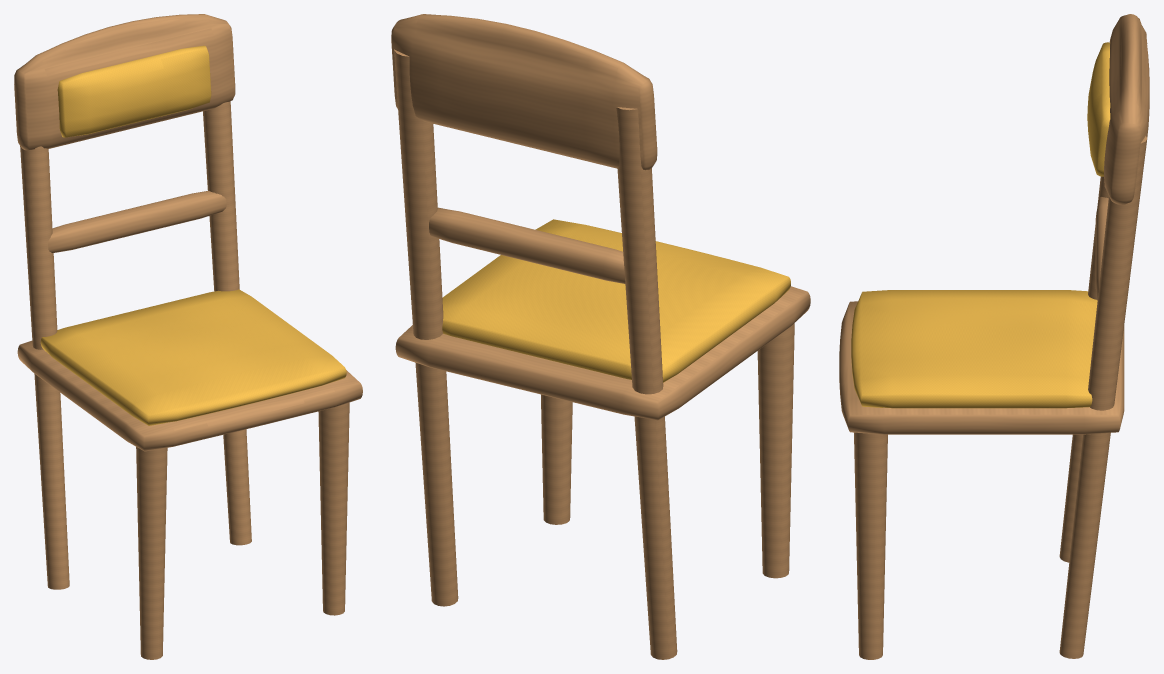
File: 卡通餐椅_芥末.glb
3 views of the same model, side by side, from view 1: azimuth 30°, elevation 25°; view 2: azimuth 150°, elevation 25°; view 3: azimuth 270°, elevation 25° (orthographic). The views are drawn at different scales.
Visible parts, largest first — view 1: DiningChair_芥末_Wood, DiningChair_芥末_Cushion; view 2: DiningChair_芥末_Wood, DiningChair_芥末_Cushion; view 3: DiningChair_芥末_Wood, DiningChair_芥末_Cushion.
Boxes of the visible parts, x1,y1,x2,y2 form: DiningChair_芥末_Wood: (14, 14, 362, 659); DiningChair_芥末_Cushion: (40, 45, 346, 425); DiningChair_芥末_Wood: (391, 14, 810, 659); DiningChair_芥末_Cushion: (442, 219, 790, 382); DiningChair_芥末_Wood: (839, 14, 1149, 659); DiningChair_芥末_Cushion: (851, 42, 1110, 408).
Size of what is drawn, in the model's own units: 0.42 by 0.9269 by 0.4659.
Materials: 2 (2 with a texture image).
